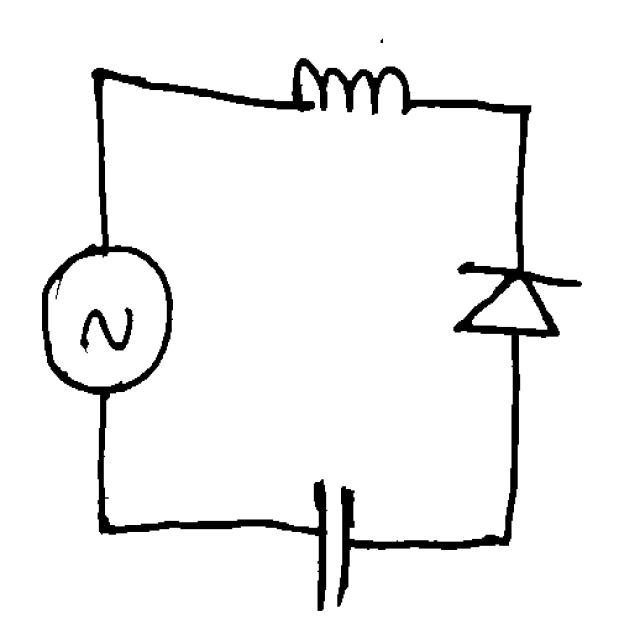ac: (32, 233, 182, 399)
capacitor: (289, 462, 366, 620)
diode: (445, 250, 592, 354)
inductor: (278, 46, 420, 132)
